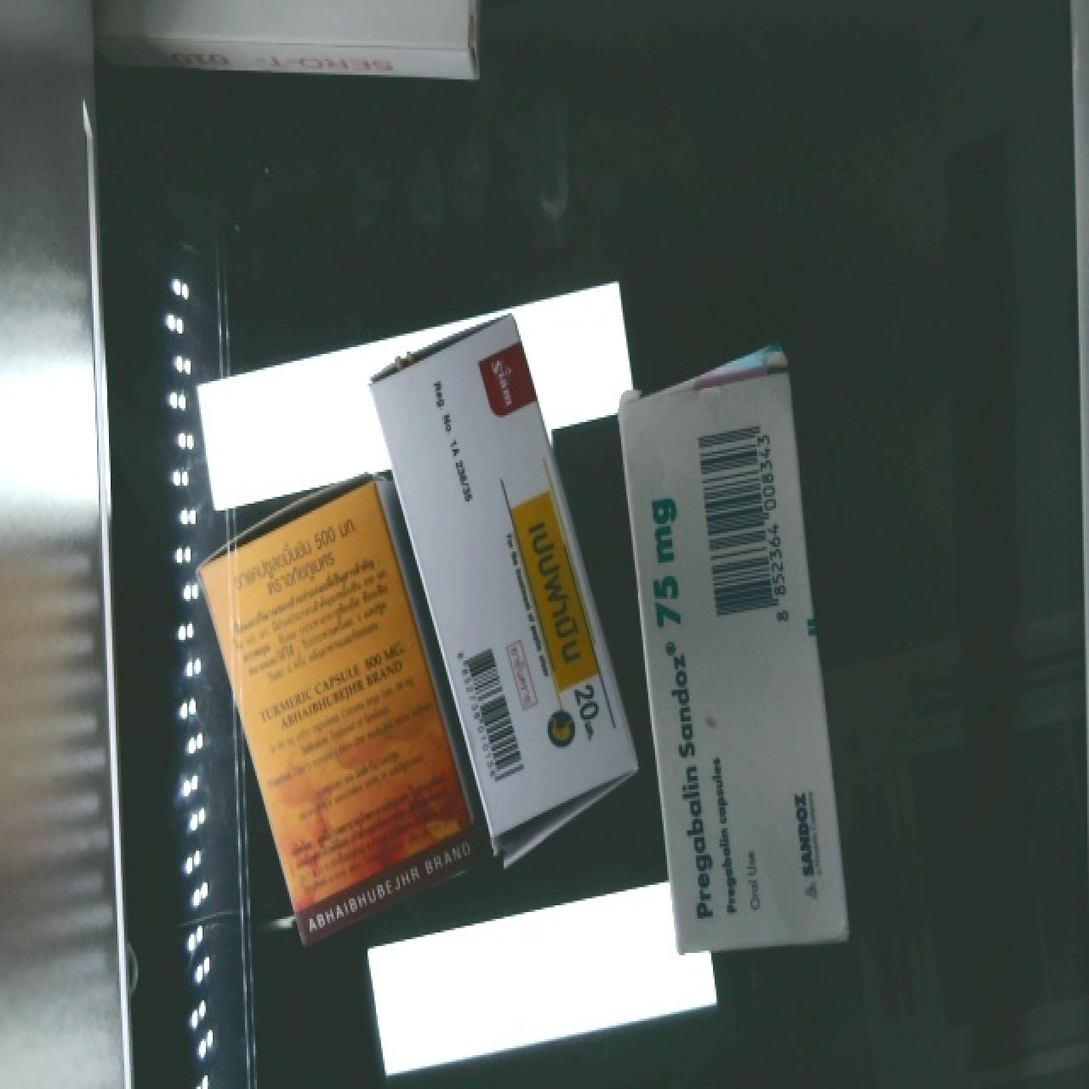medicine_label_obb: (626, 469, 724, 953), (494, 474, 628, 762)
